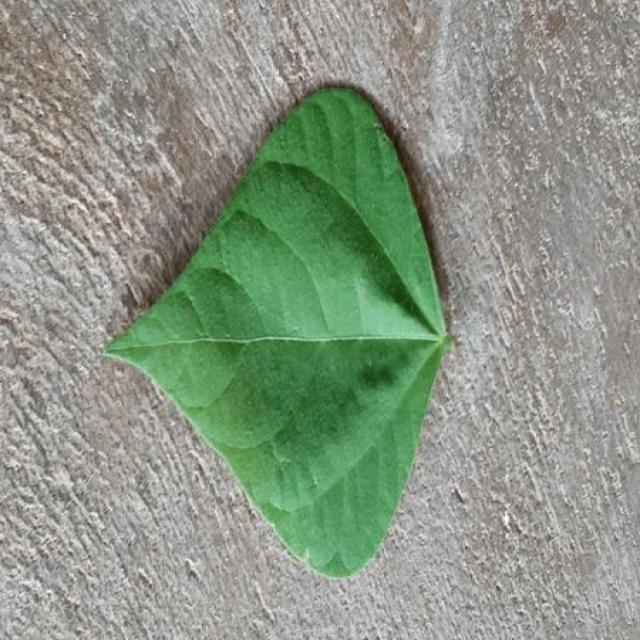beans: (107, 89, 452, 578)
